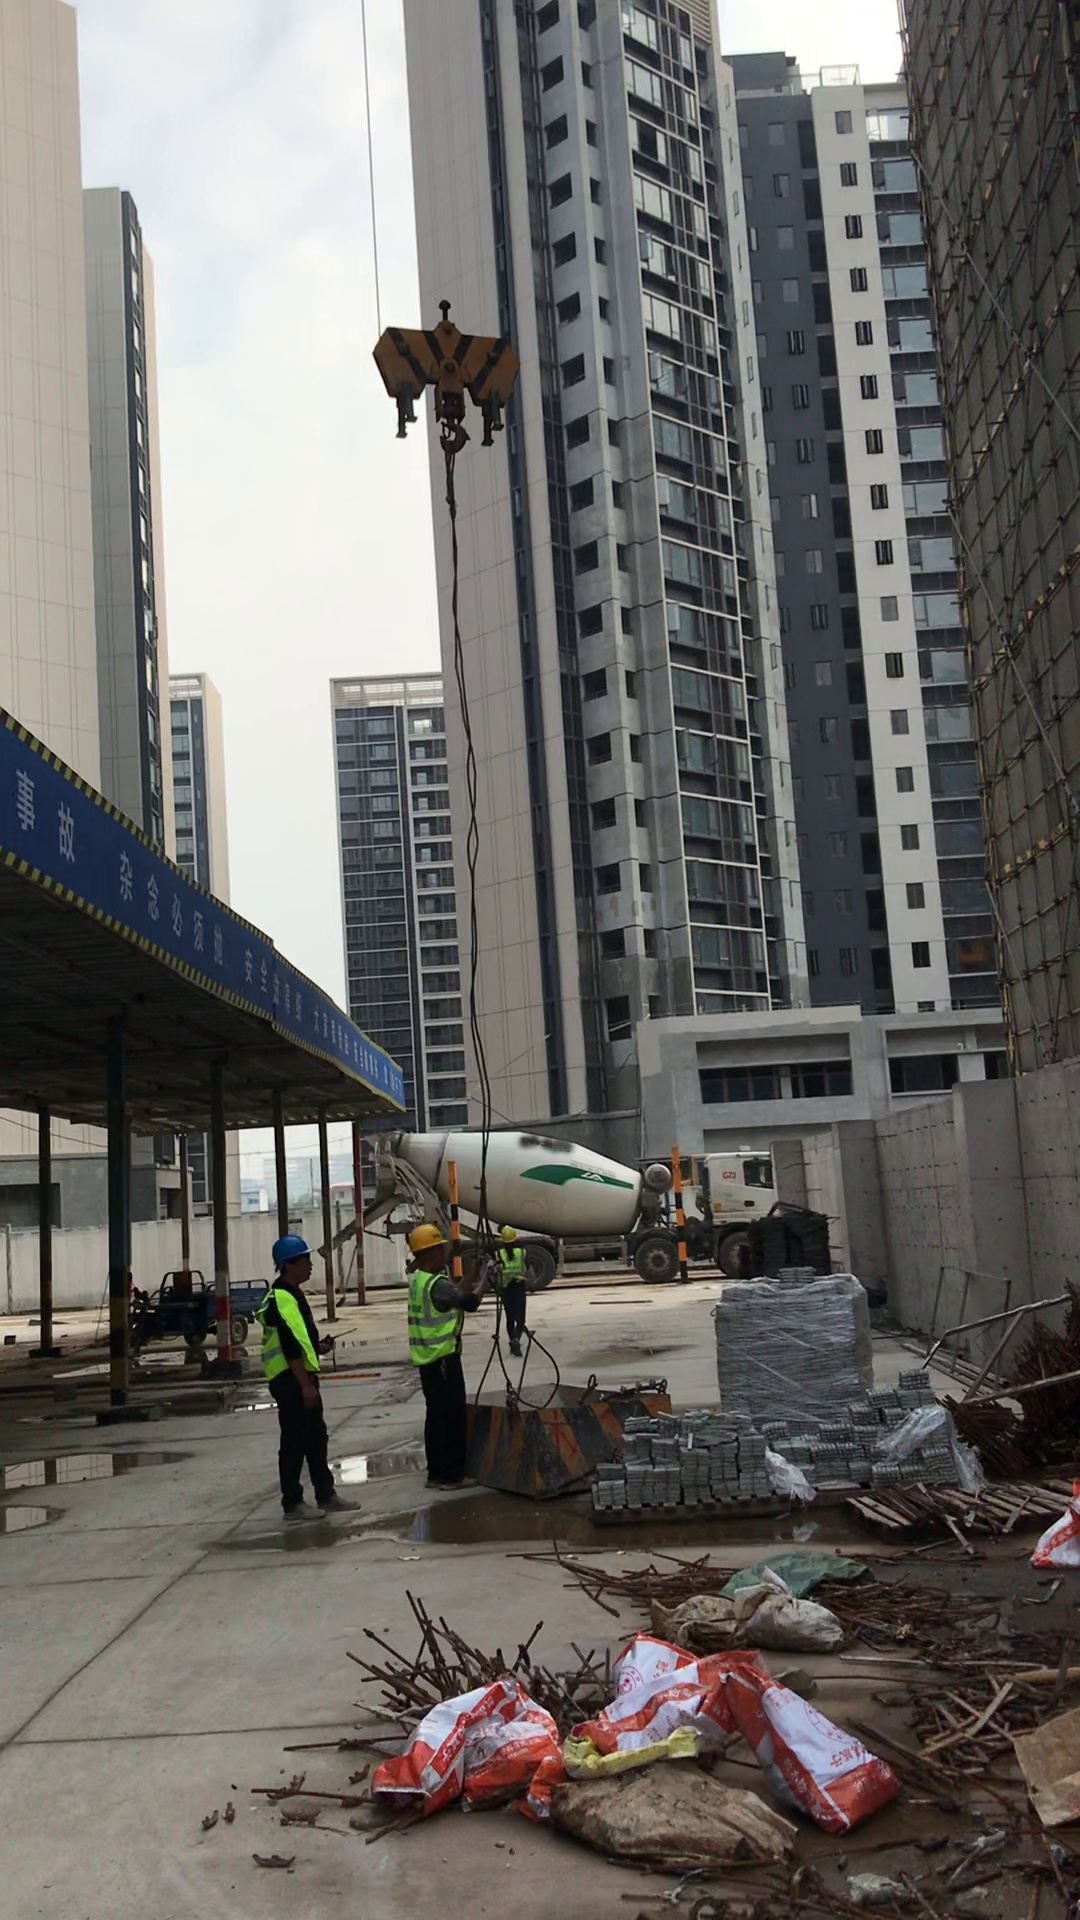helmet: (268, 1230, 315, 1262), (405, 1223, 449, 1249), (500, 1223, 520, 1243)
hook: (368, 295, 524, 459)
hopper: (463, 1362, 689, 1498)
person: (233, 1225, 369, 1529), (386, 1225, 492, 1480), (491, 1218, 534, 1357)
slogan: (9, 730, 414, 1109)
vest: (254, 1283, 321, 1373), (402, 1270, 461, 1360), (499, 1248, 525, 1281)
